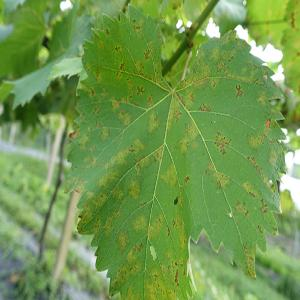Folha: (63, 3, 288, 299)
Fungo: (110, 188, 186, 300), (177, 46, 237, 112), (96, 140, 148, 189), (165, 91, 201, 156), (77, 190, 109, 237), (232, 58, 274, 88), (206, 157, 232, 190), (108, 97, 134, 128), (244, 121, 272, 149), (132, 214, 163, 238), (240, 242, 258, 280), (159, 160, 181, 189), (221, 29, 244, 55), (144, 97, 160, 132), (64, 176, 91, 194), (126, 177, 145, 201), (243, 178, 261, 202), (234, 194, 250, 220), (213, 132, 231, 154), (79, 124, 93, 152), (131, 14, 145, 38), (135, 152, 153, 170), (82, 155, 104, 167), (256, 88, 266, 108), (116, 59, 125, 77), (259, 197, 268, 213), (92, 102, 100, 119), (172, 110, 182, 122), (235, 84, 243, 98), (95, 67, 102, 83), (174, 268, 179, 286), (94, 121, 103, 131), (241, 38, 250, 48), (136, 85, 144, 96), (143, 48, 149, 61), (98, 37, 103, 52), (257, 224, 263, 236), (272, 224, 278, 235), (184, 174, 190, 184), (265, 118, 271, 128), (115, 44, 121, 54), (89, 87, 95, 97), (102, 87, 108, 97), (105, 26, 110, 37), (173, 195, 178, 204)
